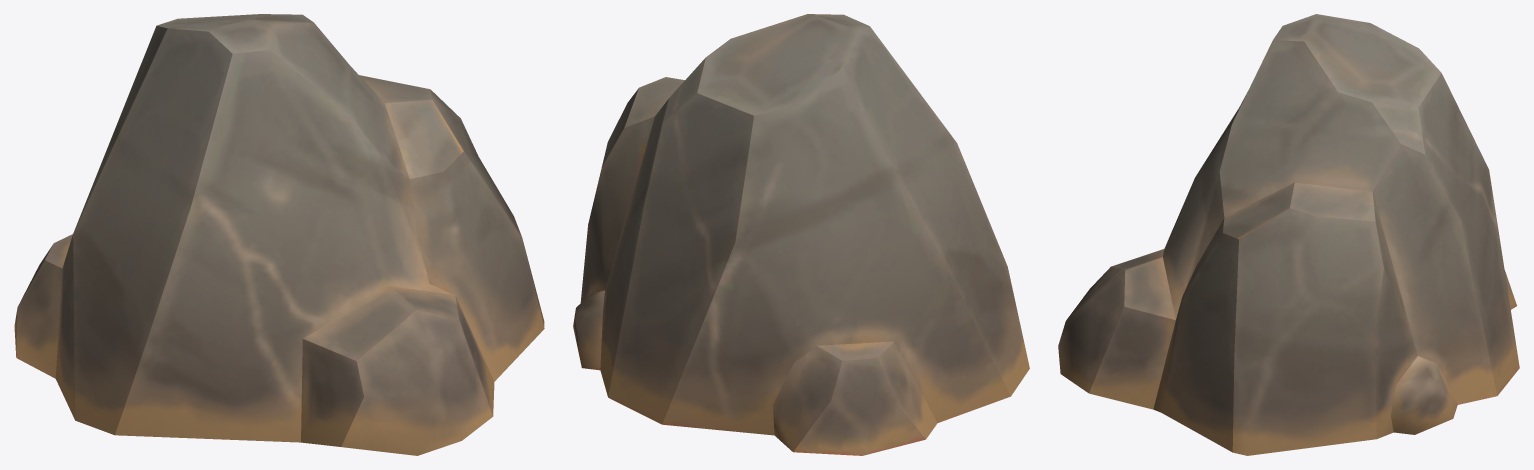
The model's file is pref_sm_beach_techrock03_lv3.fbx.
3 renders of one model, left to right at view 1: azimuth 30°, elevation 25°; view 2: azimuth 150°, elevation 25°; view 3: azimuth 270°, elevation 25°, orthographic. The views are drawn at different scales.
Parts seen in each view (by area): view 1: pref_sm_beach_techrock03_lv3; view 2: pref_sm_beach_techrock03_lv3; view 3: pref_sm_beach_techrock03_lv3.
Boxes of the visible parts, x1=… form: pref_sm_beach_techrock03_lv3: x1=14, y1=14, x2=544, y2=455; pref_sm_beach_techrock03_lv3: x1=573, y1=14, x2=1029, y2=455; pref_sm_beach_techrock03_lv3: x1=1058, y1=14, x2=1519, y2=455.
Bounding box in the file's own units: 3.28 × 2.48 × 3.21.
